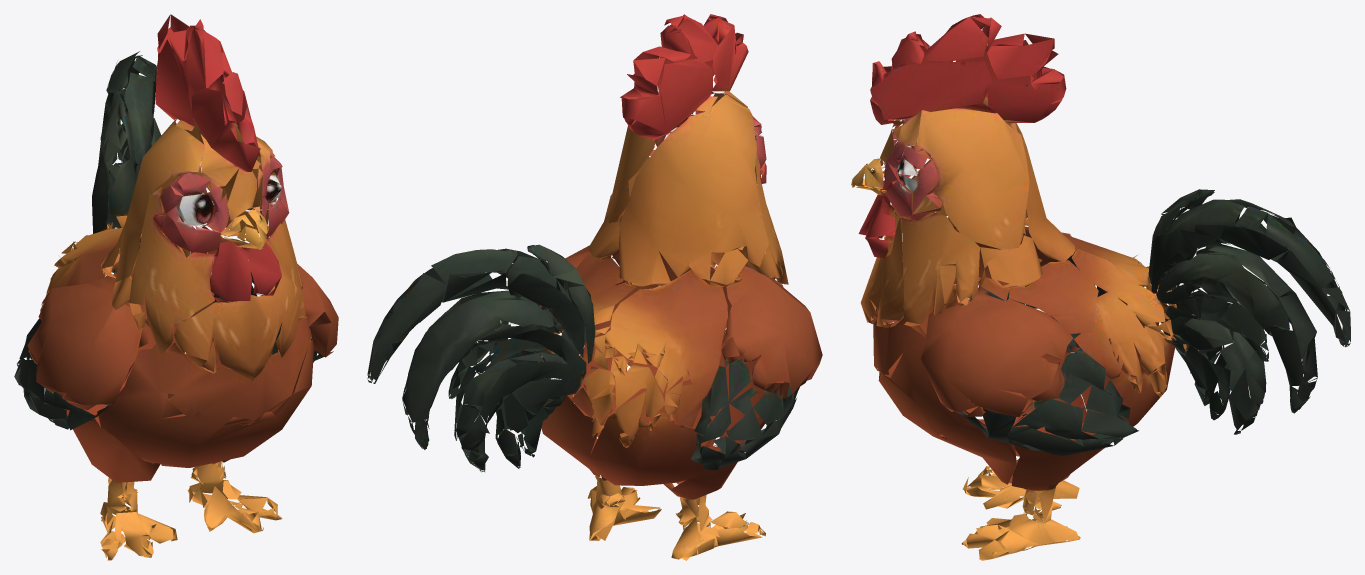
The model's file is rooster.glb.
3 views of the same model, side by side, from view 1: azimuth 30°, elevation 25°; view 2: azimuth 150°, elevation 25°; view 3: azimuth 270°, elevation 25° (orthographic). The views are drawn at different scales.
Visible parts, largest first — view 1: model; view 2: model; view 3: model.
Boxes of the visible parts, left/top/right/bottom form: model: left=14, top=14, right=338, bottom=560; model: left=367, top=14, right=822, bottom=560; model: left=851, top=14, right=1350, bottom=560.
Size of the model in its own units: 1.06 by 1.9 by 1.69.
Materials: 1 (1 with a texture image).
